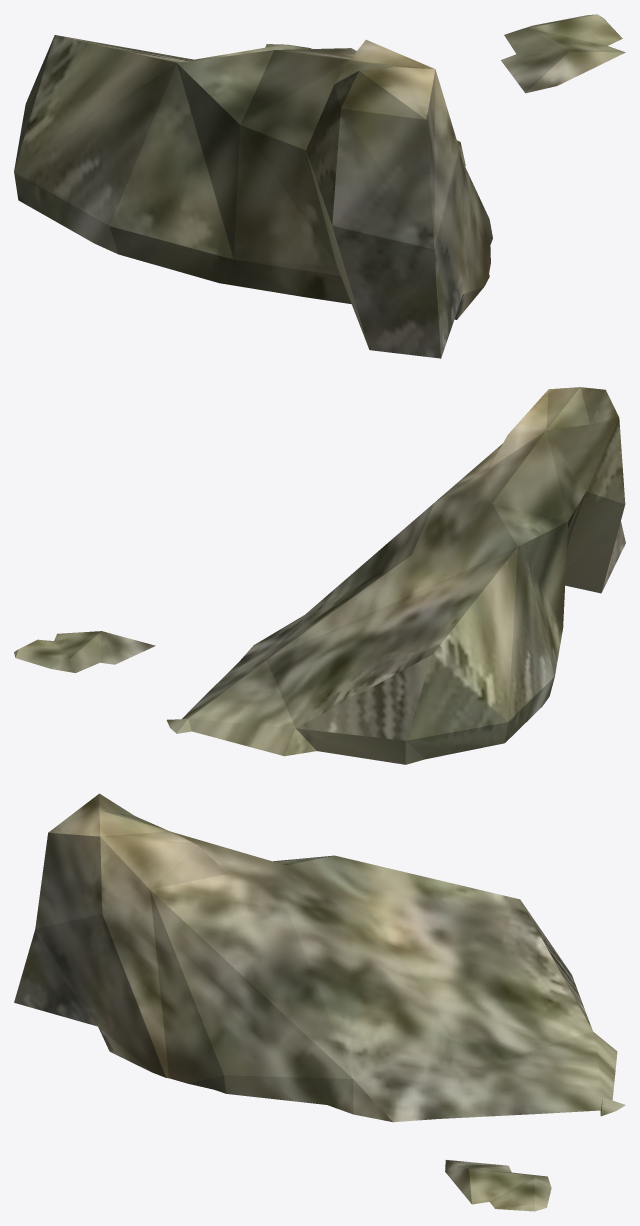
3 views of the same model, one above another, from view 1: azimuth 30°, elevation 25°; view 2: azimuth 150°, elevation 25°; view 3: azimuth 270°, elevation 25° (orthographic). The views are drawn at different scales.
Bounding box in the file's own units: 1.41 × 0.5995 × 1.52.
1 material, 1 textured.
